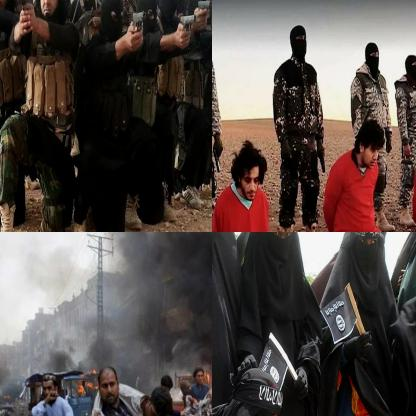pistol: (12, 0, 38, 37), (171, 14, 197, 45), (130, 9, 147, 40), (212, 145, 227, 177), (191, 0, 211, 20), (314, 145, 329, 171)
